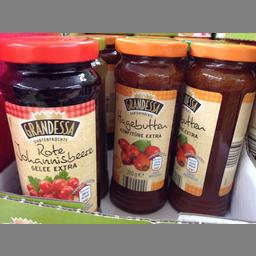jam: (0, 34, 102, 212), (169, 36, 255, 214), (108, 36, 188, 214)
